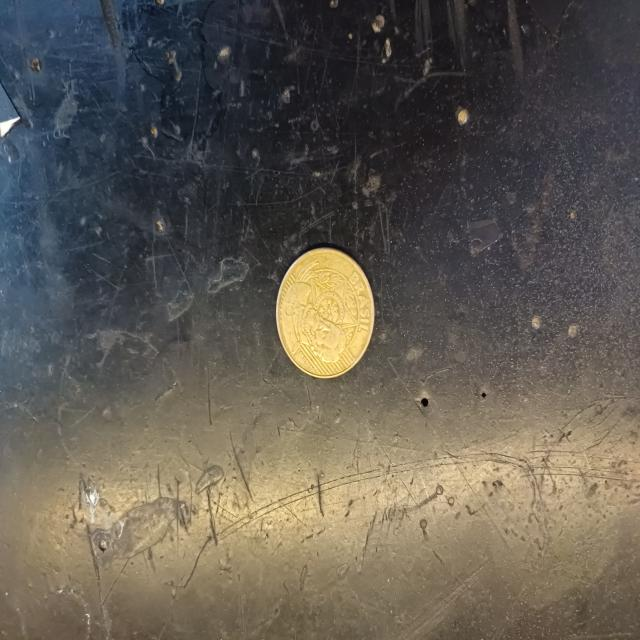25 cents: (274, 248, 377, 382)
